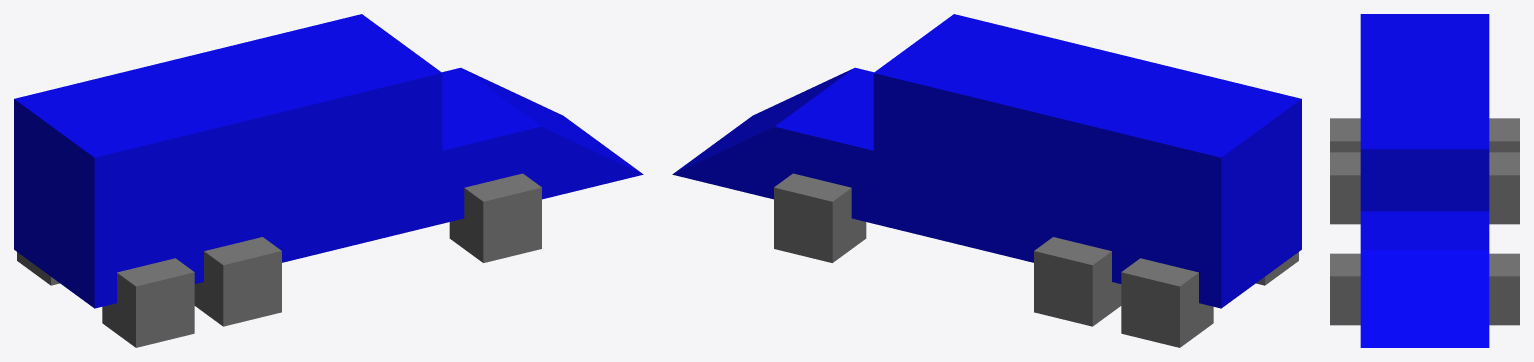
The model's file is Truck.dae.
3 views of the same model, side by side, from view 1: azimuth 30°, elevation 25°; view 2: azimuth 150°, elevation 25°; view 3: azimuth 270°, elevation 25° (orthographic). The views are drawn at different scales.
Parts seen in each view (by area): view 1: Truck, Wheel_000, Wheel_001, Wheel_005; view 2: Truck, Wheel_003, Wheel_002, Wheel_004; view 3: Truck, Wheel_001, Wheel_002, Wheel_004, Wheel_005, Wheel_000, Wheel_003.
Part boxes in pixels (bbox=[...]): Truck: bbox=[14, 14, 643, 308]; Wheel_000: bbox=[102, 258, 194, 347]; Wheel_001: bbox=[449, 173, 541, 262]; Wheel_005: bbox=[194, 237, 281, 326]; Truck: bbox=[672, 14, 1301, 308]; Wheel_003: bbox=[1121, 258, 1213, 347]; Wheel_002: bbox=[774, 173, 866, 262]; Wheel_004: bbox=[1034, 237, 1121, 326]; Truck: bbox=[1360, 14, 1489, 347]; Wheel_001: bbox=[1330, 253, 1360, 325]; Wheel_002: bbox=[1489, 253, 1519, 325]; Wheel_004: bbox=[1489, 152, 1519, 224]; Wheel_005: bbox=[1330, 152, 1360, 224]; Wheel_000: bbox=[1330, 118, 1360, 152]; Wheel_003: bbox=[1489, 118, 1519, 152].
Bounding box in the file's own units: 7.87 × 2.95 × 2.49.
